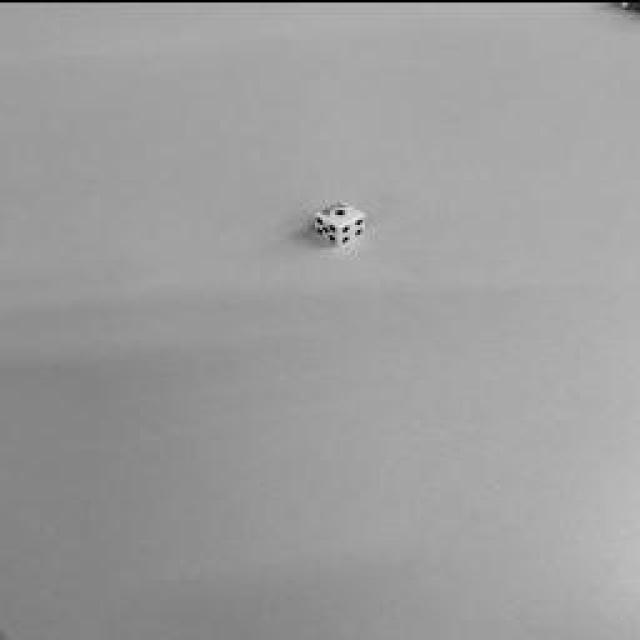dice_1: (318, 200, 362, 225)
